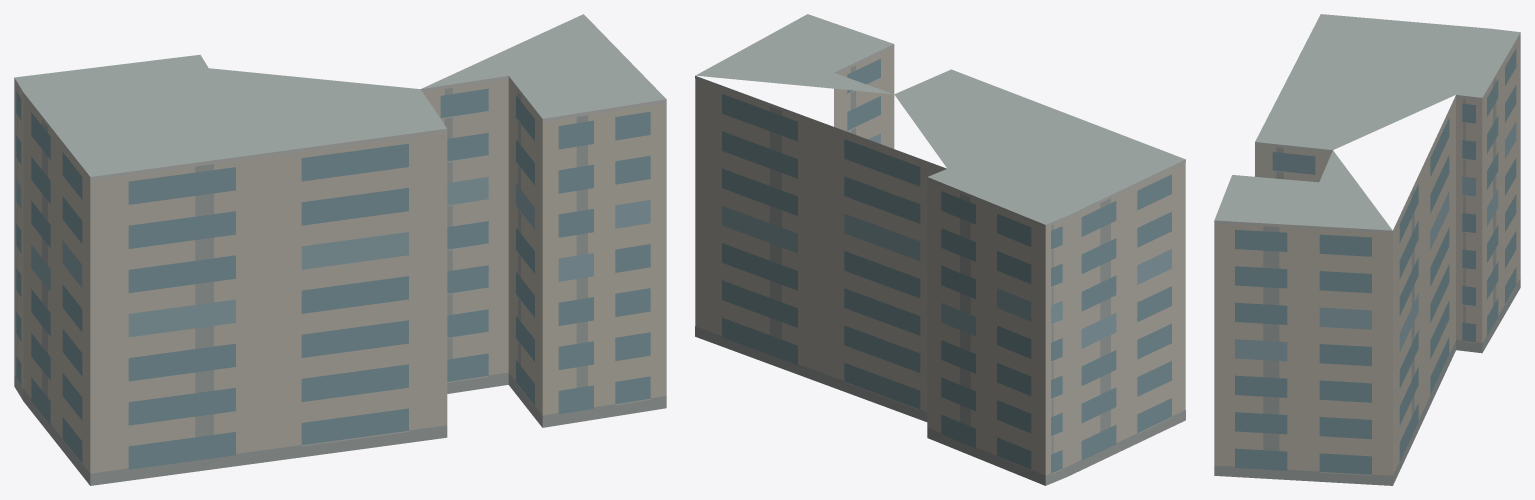
The model's file is survey-upis-32750077.glb.
3 views of the same model, side by side, from view 1: azimuth 30°, elevation 25°; view 2: azimuth 150°, elevation 25°; view 3: azimuth 270°, elevation 25° (orthographic). The views are drawn at different scales.
Visible parts, largest first — view 1: survey-upis-32750077.tmp; view 2: survey-upis-32750077.tmp; view 3: survey-upis-32750077.tmp.
Boxes of the visible parts, box(x1,y1,x2,y2) form: survey-upis-32750077.tmp: box(14, 14, 666, 485); survey-upis-32750077.tmp: box(695, 14, 1185, 485); survey-upis-32750077.tmp: box(1214, 14, 1520, 485).
Bounding box in the file's own units: 37.85 × 20.8 × 22.63.
